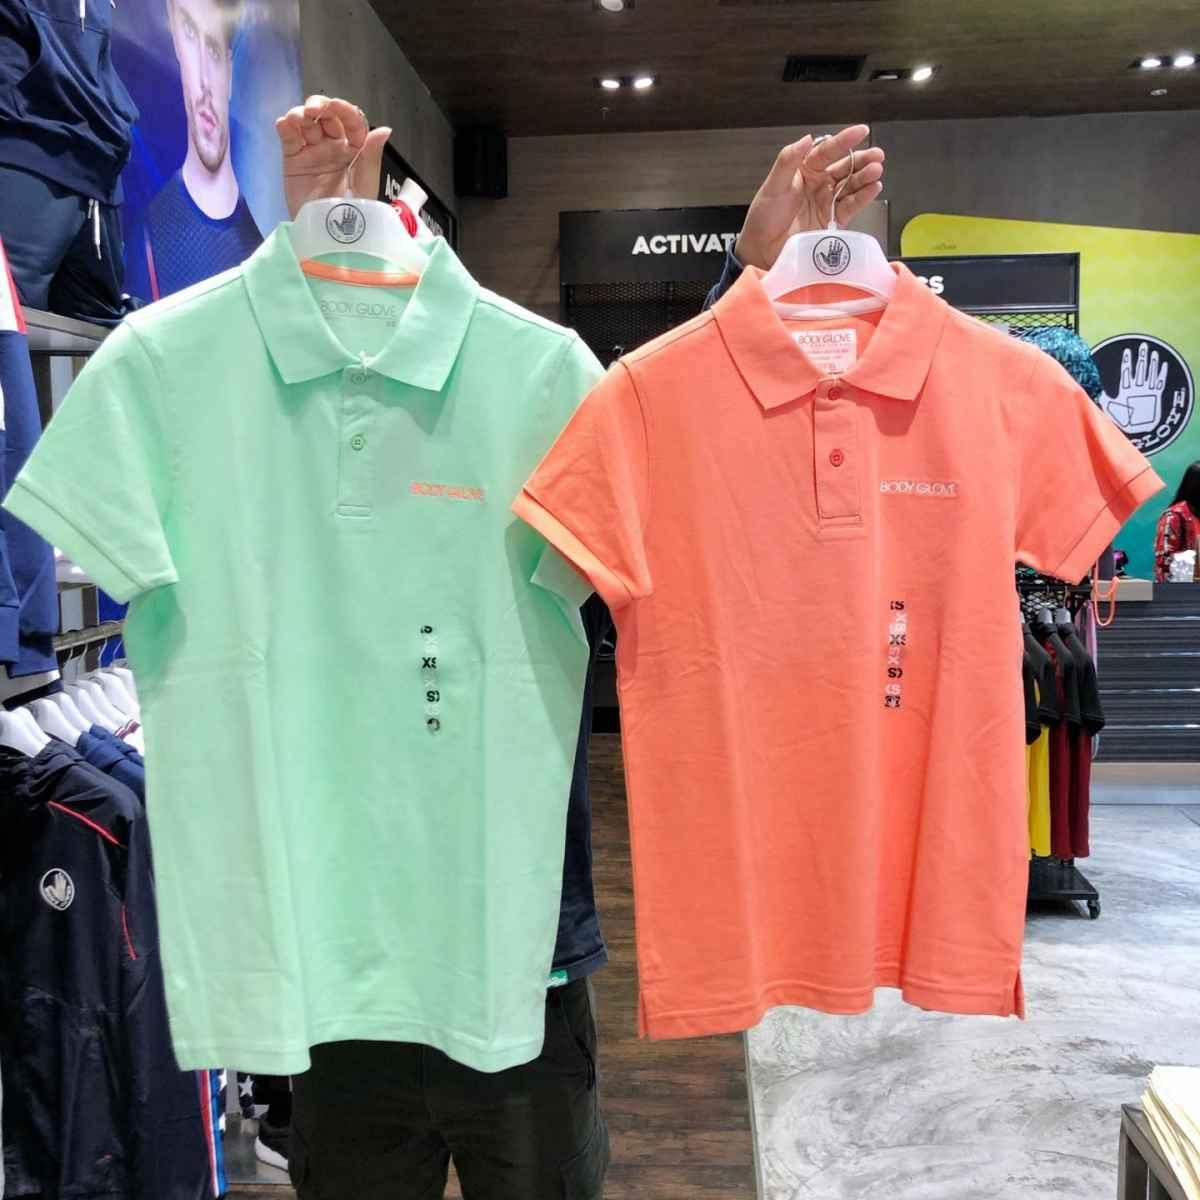Tshirt: (3, 226, 616, 1085), (542, 291, 1155, 1045)
